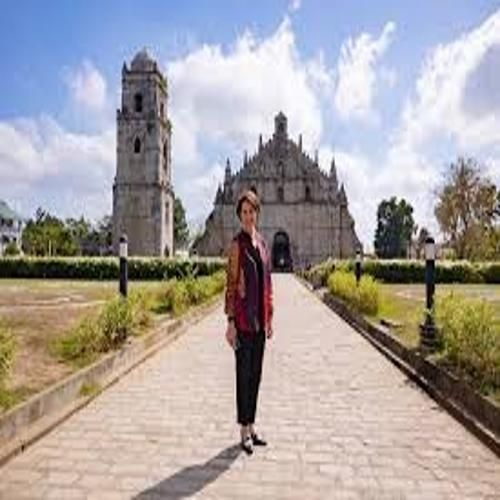Paoay Church: (107, 37, 365, 277)
